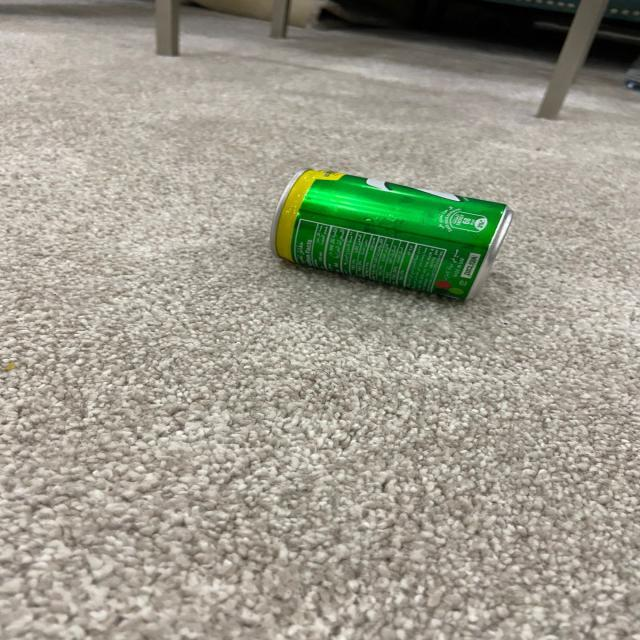can: (270, 163, 518, 307)
